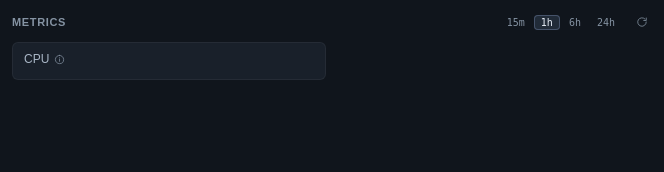
the info button shows what a chart measures
Expected: the heading "CPU" is shown, [24,52,49,66]
Expected: the text "Cores used per container." is not shown
Hover over the button with class "what".
mouse_move(60, 59)  # box [54,54,65,64]
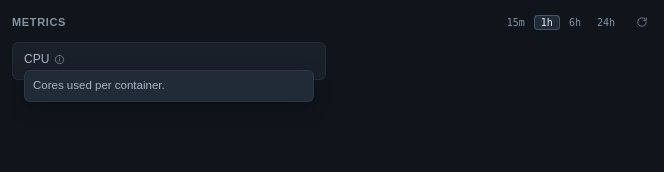
Now the tooltip "Cores used per container." is shown, box [24,70,314,102]
Move the pointer off the button with class "what", box [54,54,65,64]
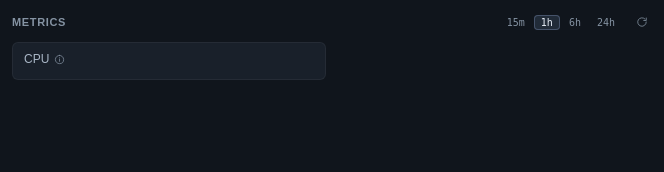
Now the tooltip "Cores used per container." is gone
